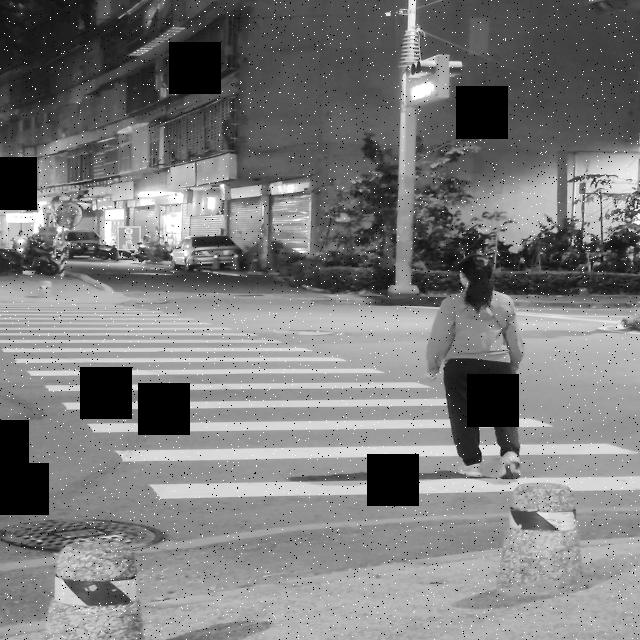person: (425, 255, 525, 479)
zebra crossing: (7, 304, 637, 505)
